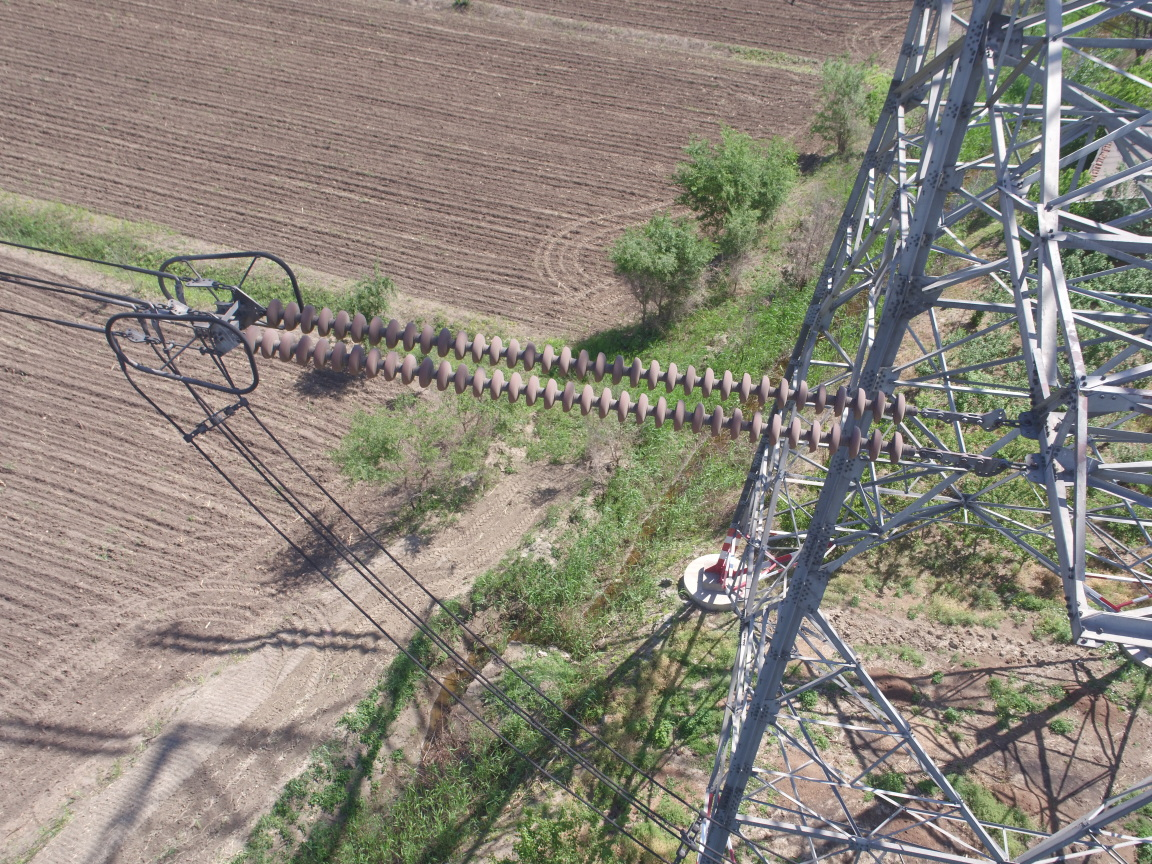insulator: (225, 294, 969, 467)
